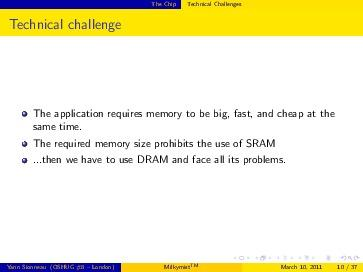paragraph: (16, 97, 351, 173)
subtitle: (3, 258, 363, 272)
title: (8, 13, 131, 38)
